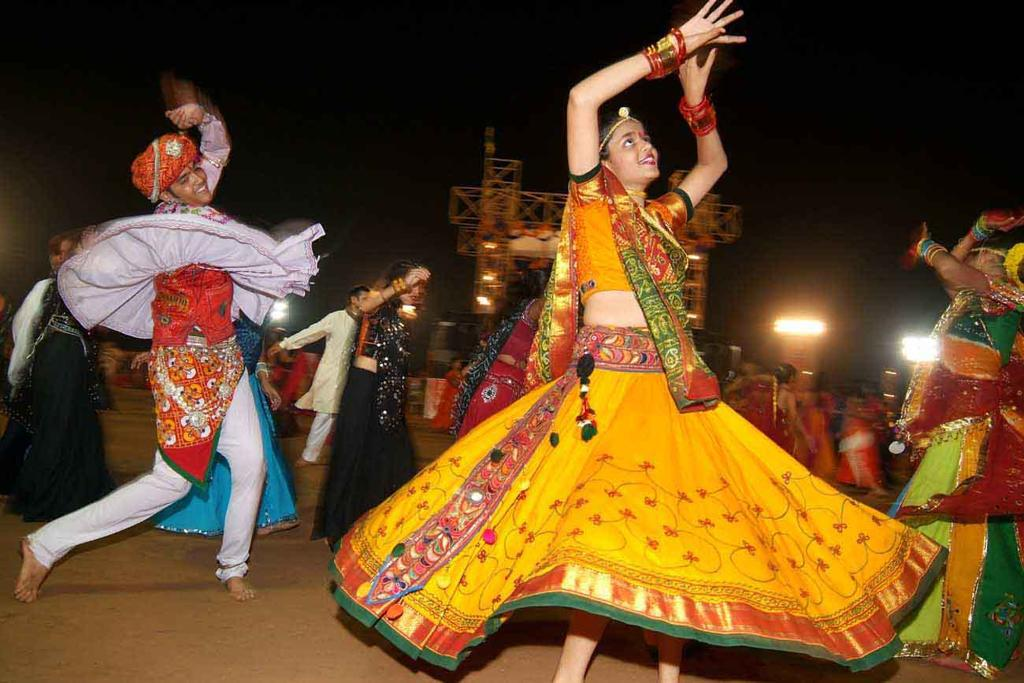face: (610, 122, 661, 179), (174, 159, 213, 203), (945, 245, 978, 292), (51, 244, 80, 274), (401, 273, 419, 305), (358, 293, 372, 312), (821, 388, 833, 400), (787, 374, 797, 387), (480, 341, 487, 347), (456, 363, 460, 368)
